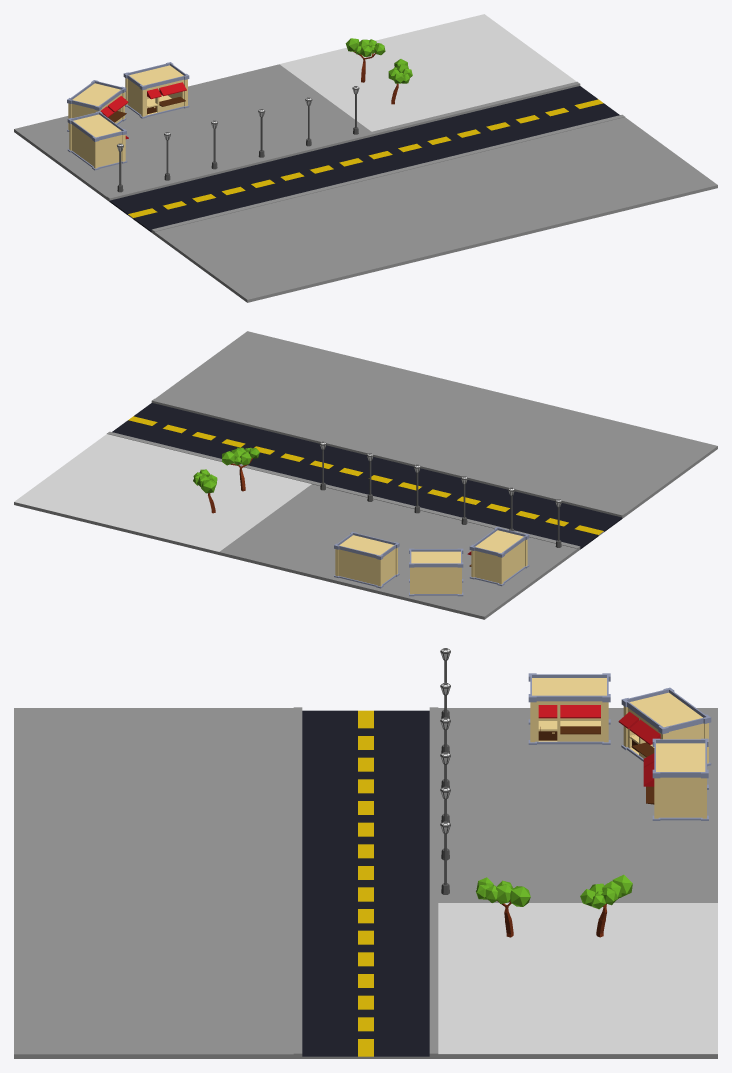
Rendered from environment 1.fbx.
3 renders of one model, top to bottom at view 1: azimuth 30°, elevation 25°; view 2: azimuth 150°, elevation 25°; view 3: azimuth 270°, elevation 25°, orthographic. The views are drawn at different scales.
Visible parts, largest first — view 1: Plane, Plane.001, Plane.002, Cube, Cube.010, Cube.009, Cylinder, Cube.008, Cube.019; view 2: Plane, Plane.002, Plane.001, Cube, Cube.010, Cube.009, Cylinder, Cube.019, Cube.008; view 3: Plane, Plane.002, Plane.001, Cube.010, Cube, Cube.009, Cylinder, Cube.019, Cube.008.
Part boxes in pixels (left/top/right/bottom): Plane: left=14, top=64, right=717, bottom=302; Plane.001: left=326, top=48, right=576, bottom=131; Plane.002: left=279, top=14, right=530, bottom=98; Cube: left=123, top=62, right=189, bottom=118; Cube.010: left=67, top=111, right=128, bottom=170; Cube.009: left=67, top=80, right=128, bottom=131; Cylinder: left=117, top=86, right=359, bottom=192; Cube.008: left=345, top=38, right=385, bottom=82; Cube.019: left=388, top=59, right=412, bottom=104; Plane: left=14, top=331, right=717, bottom=619; Plane.002: left=14, top=468, right=265, bottom=551; Plane.001: left=61, top=434, right=311, bottom=517; Cube: left=334, top=531, right=399, bottom=588; Cube.010: left=467, top=527, right=529, bottom=586; Cube.009: left=409, top=548, right=463, bottom=596; Cylinder: left=319, top=441, right=562, bottom=547; Cube.019: left=222, top=447, right=259, bottom=491; Cube.008: left=193, top=469, right=217, bottom=513; Plane: left=14, top=707, right=717, bottom=1058; Plane.002: left=577, top=903, right=717, bottom=1053; Plane.001: left=438, top=903, right=577, bottom=1053; Cube.010: left=528, top=673, right=610, bottom=744; Cube: left=643, top=738, right=708, bottom=820; Cube.009: left=618, top=687, right=711, bottom=766; Cylinder: left=440, top=648, right=450, bottom=894; Cube.019: left=476, top=877, right=530, bottom=937; Cube.008: left=580, top=874, right=632, bottom=937.
Bounding box in the file's own units: 12161 × 1237 × 10451.
